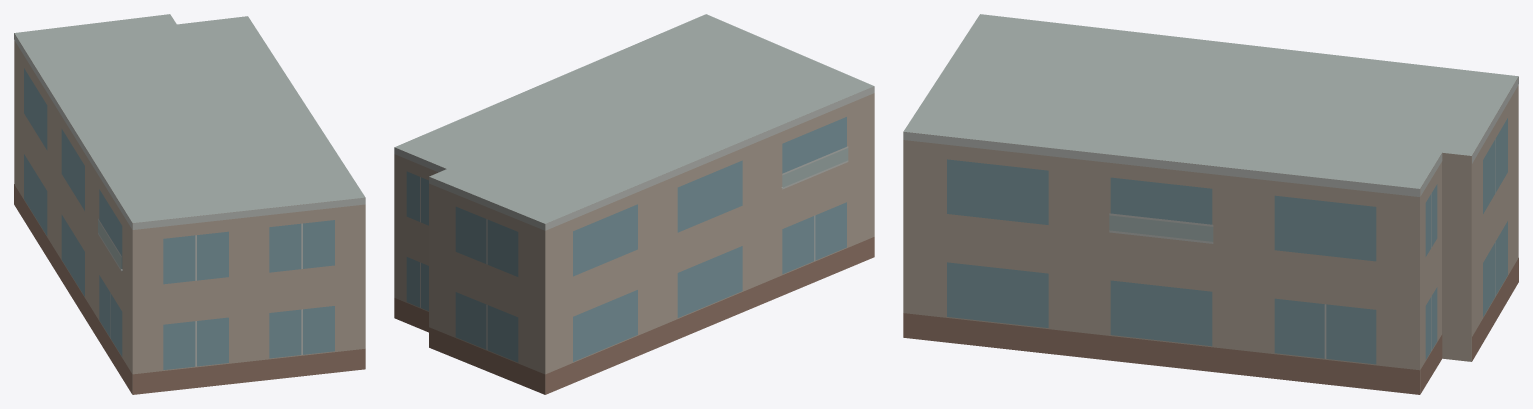
The model's file is survey-upis-32722595.glb.
The picture shows the model from 3 angles, left to right: view 1: azimuth 30°, elevation 25°; view 2: azimuth 150°, elevation 25°; view 3: azimuth 270°, elevation 25°; orthographic projection. The views are drawn at different scales.
Visible parts, largest first — view 1: survey-upis-32722595.tmp; view 2: survey-upis-32722595.tmp; view 3: survey-upis-32722595.tmp.
Boxes of the visible parts, bbox=[...] form: survey-upis-32722595.tmp: bbox=[14, 14, 365, 394]; survey-upis-32722595.tmp: bbox=[394, 14, 874, 394]; survey-upis-32722595.tmp: bbox=[903, 14, 1518, 394].
Size of the model in its own units: 11.12 by 6.1 by 16.53.
